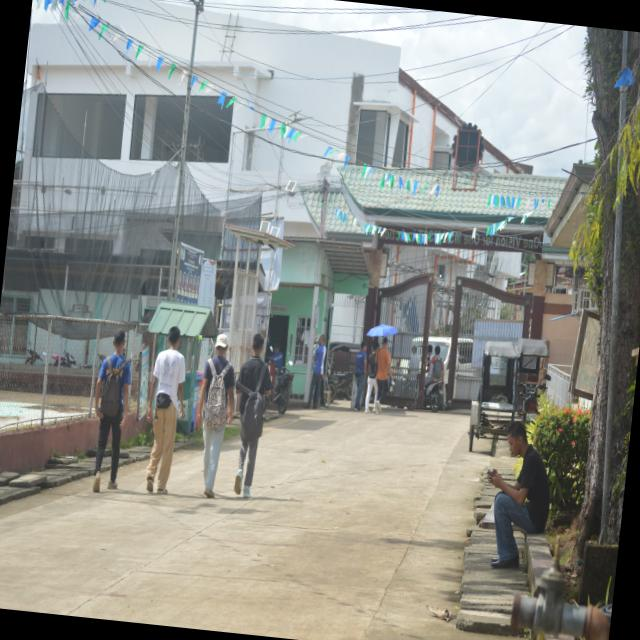person: (487, 421, 549, 568), (145, 326, 184, 494), (196, 334, 234, 497), (93, 329, 130, 492), (303, 335, 325, 408), (233, 438, 257, 497), (375, 337, 393, 413), (364, 341, 377, 413), (353, 342, 366, 411), (270, 345, 282, 371)
